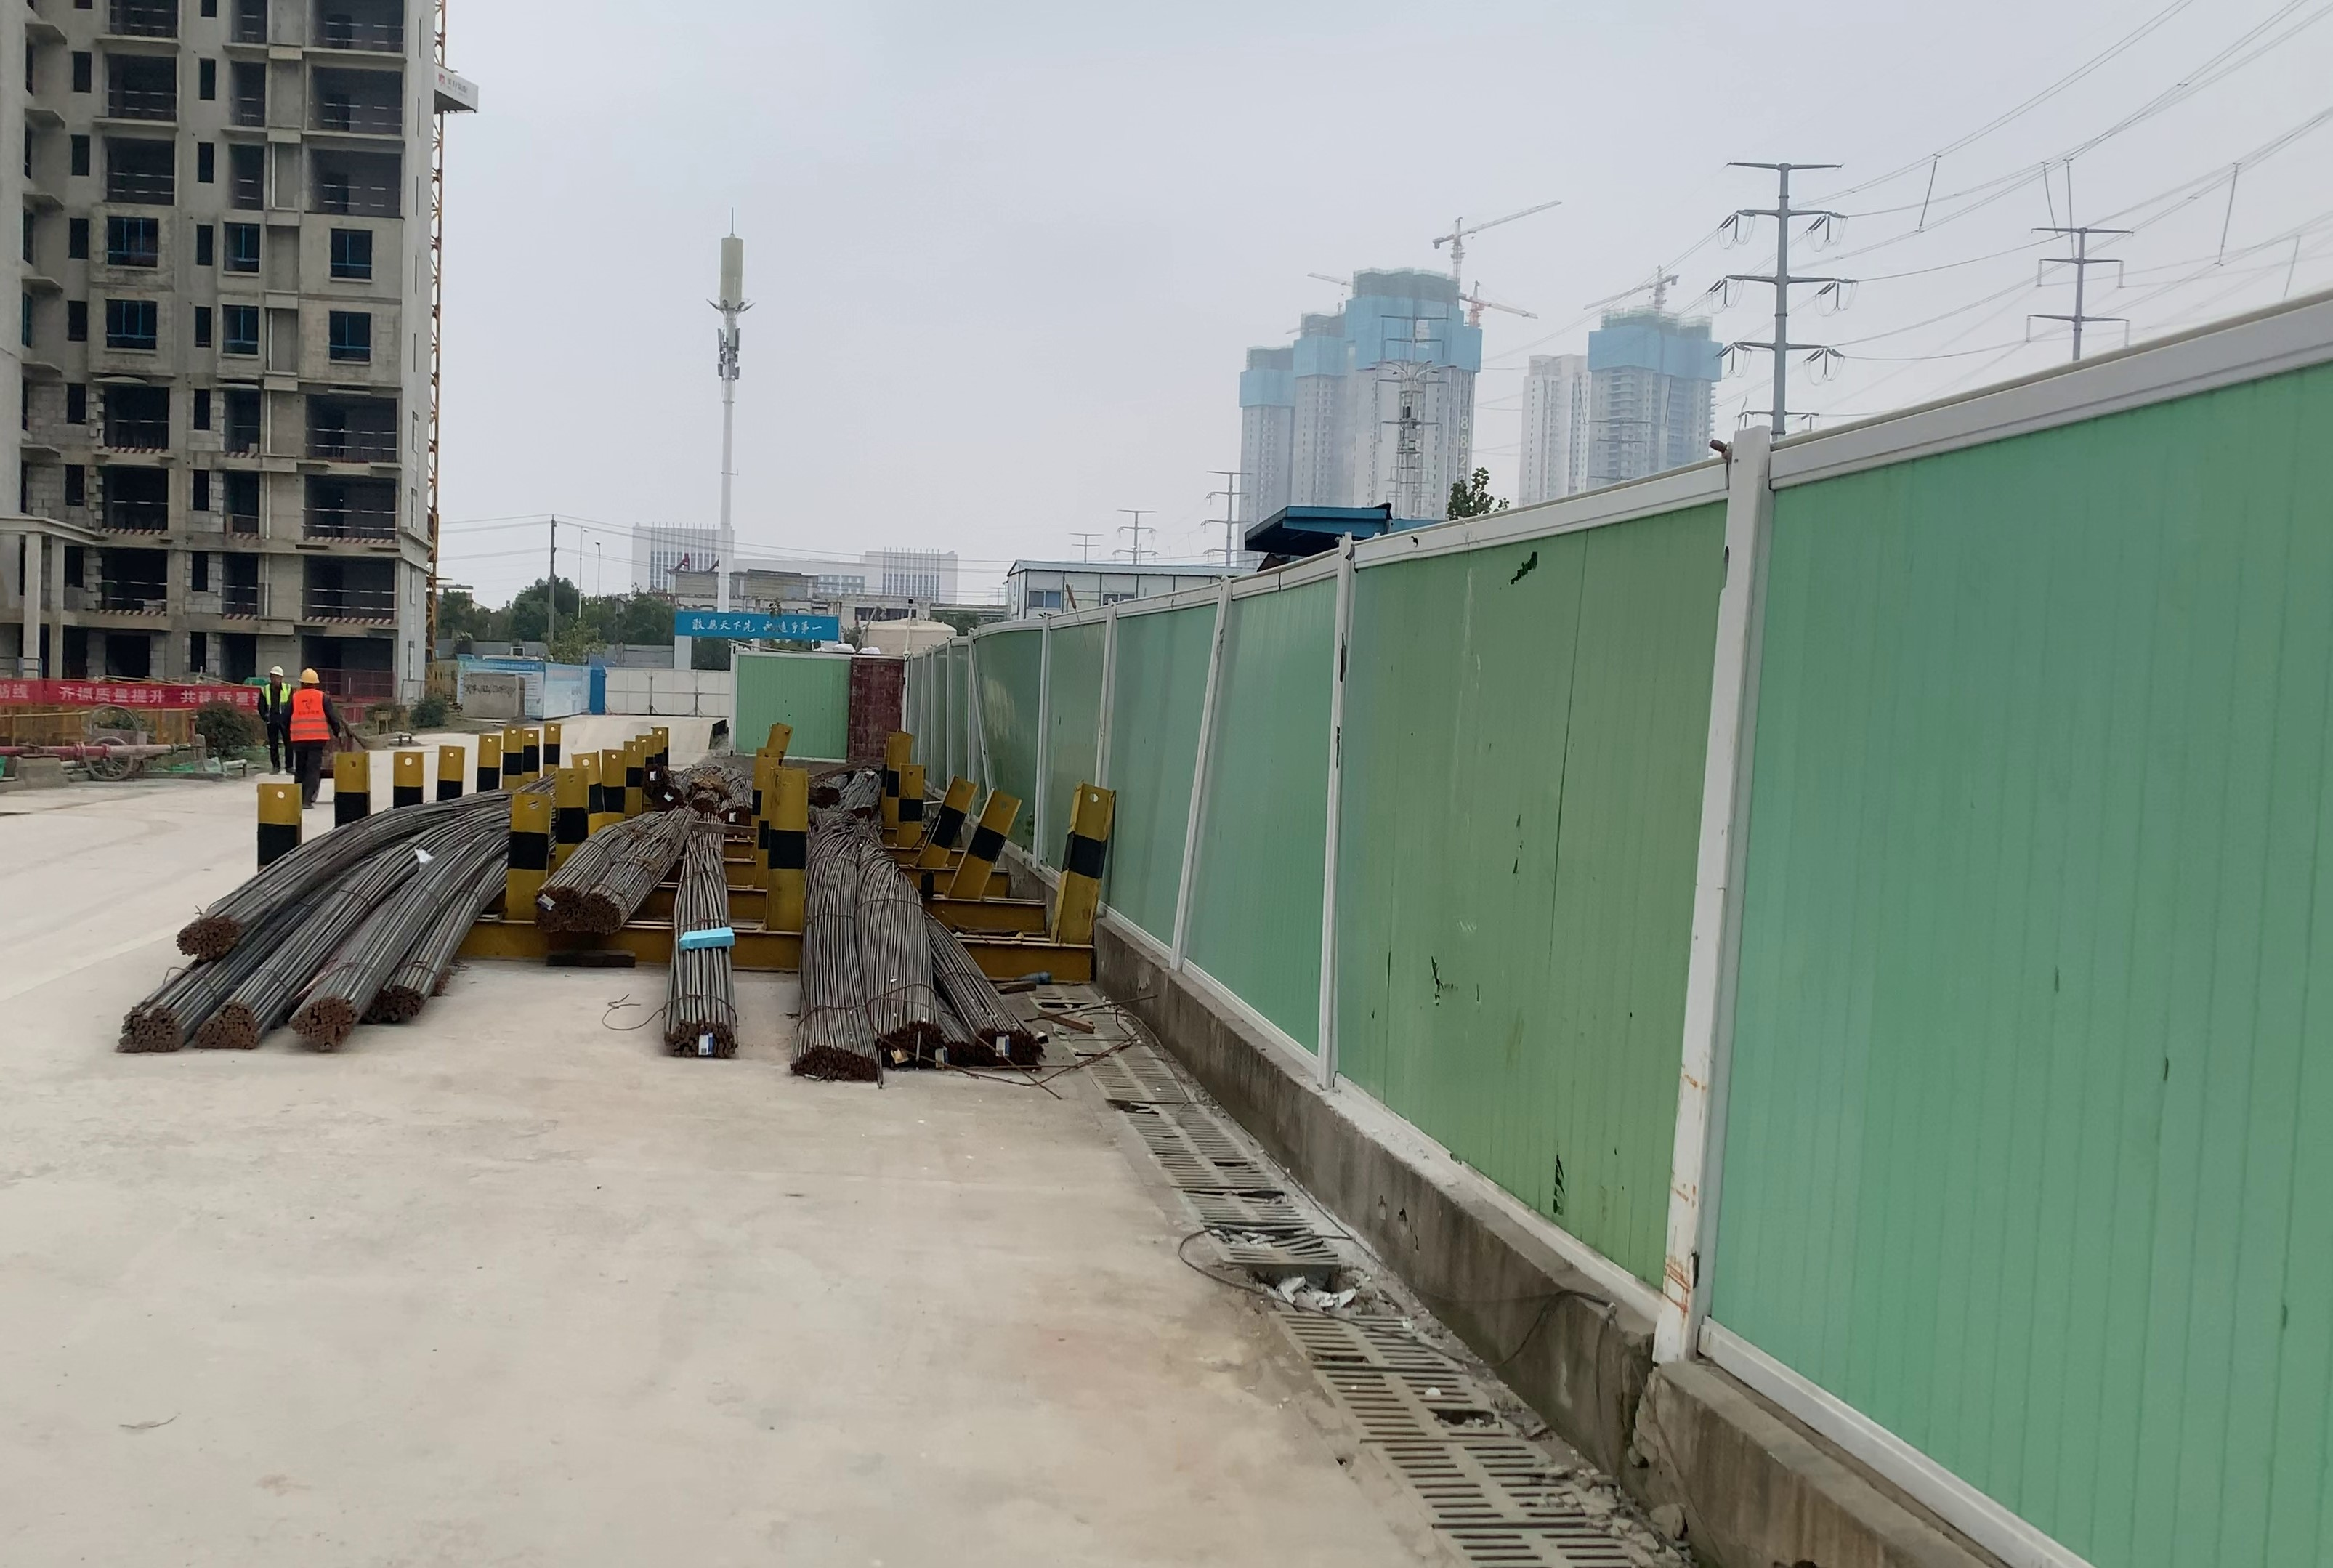rebar: (940, 1024, 1040, 1083), (784, 1043, 875, 1083), (289, 1001, 364, 1048), (193, 999, 257, 1050), (663, 1013, 735, 1059), (177, 908, 236, 959), (116, 1006, 179, 1053), (880, 1018, 936, 1067), (574, 887, 620, 934), (373, 987, 429, 1024), (536, 877, 571, 933)
